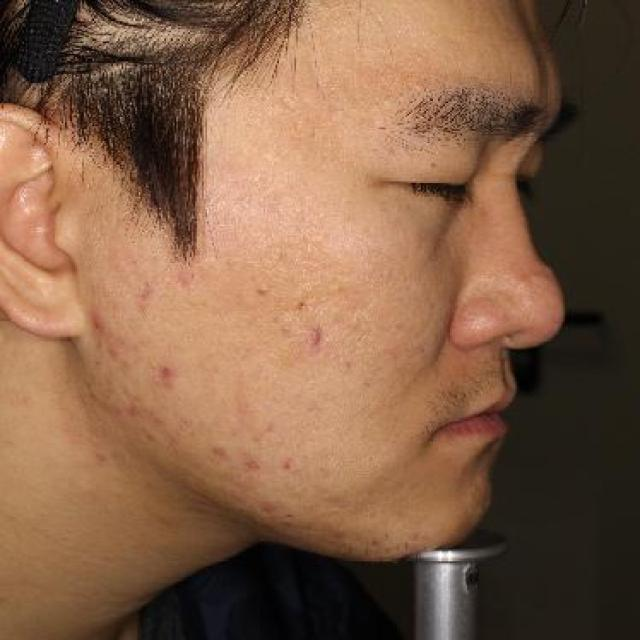Acne: (125, 277, 156, 320), (298, 316, 327, 357), (150, 356, 180, 392), (240, 448, 267, 477), (88, 306, 111, 340), (202, 445, 233, 466), (173, 268, 195, 292), (277, 454, 303, 474)
Whiteheads: (243, 277, 285, 305)
